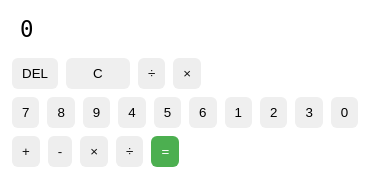
Test case: Calculator UI › performs addition via backend when equals pressed
//  enter 4
What coordinates should you click on to do the following:
click the button "4"
I would click on:
 (132, 112)
Its box is [118,97,146,128].
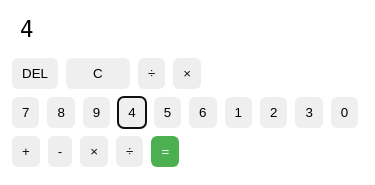
// choose +
What coordinates should you click on to do the following:
click the button "+"
I would click on:
 (26, 152)
Its box is [12,136,40,167].
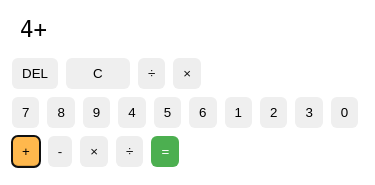
//  enter 5
What coordinates should you click on to do the following:
click the button "5"
I would click on:
 (167, 112)
Its box is [154,97,181,128].
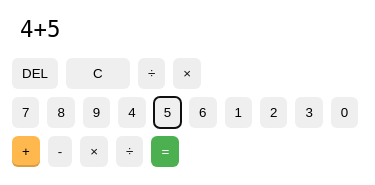
What coordinates should you click on to do the following:
click the button "="
I would click on:
 (165, 152)
Its box is [151,136,179,167].
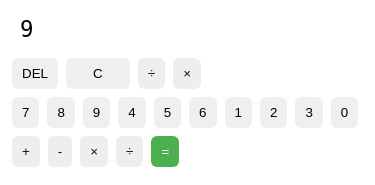
Check: the text with test id "display" reads "9", box [20,16,34,42]
